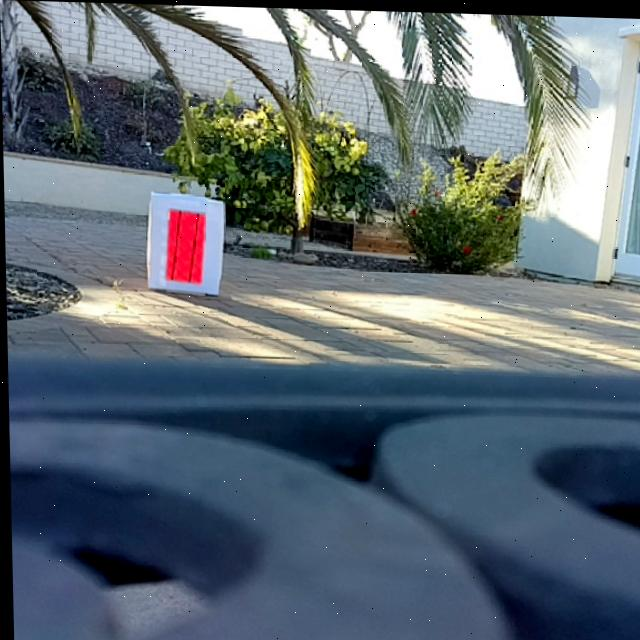led: (165, 208, 204, 282)
